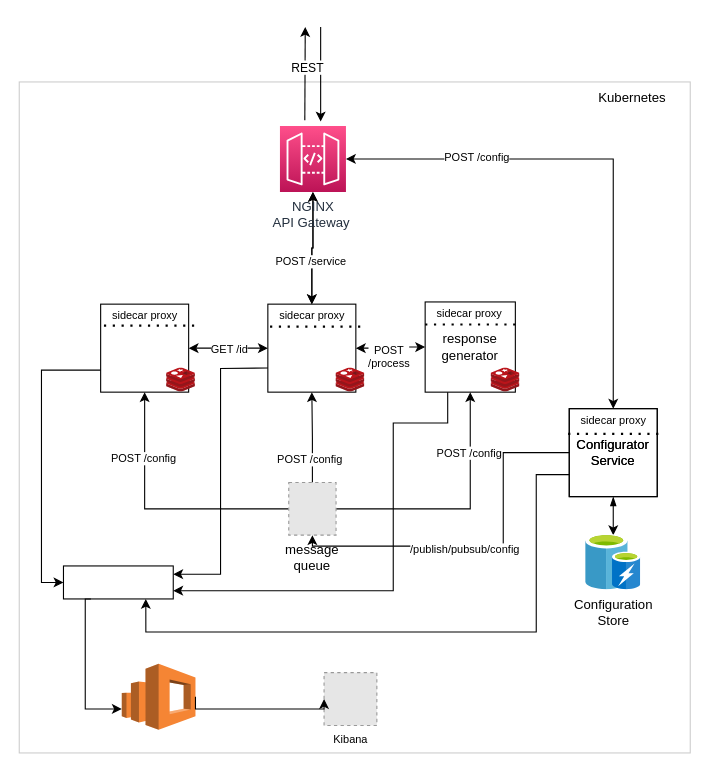
This 710x772 diagram has some shape labels left out. Grey dashed boxes stand in for pictures. Each missing label, with the box of its shape:
Elastic Search: (121, 663, 195, 730)
Fluentd: (62, 565, 173, 599)
Id Generate Service: (100, 303, 189, 392)
Service Processor: (267, 303, 356, 392)
